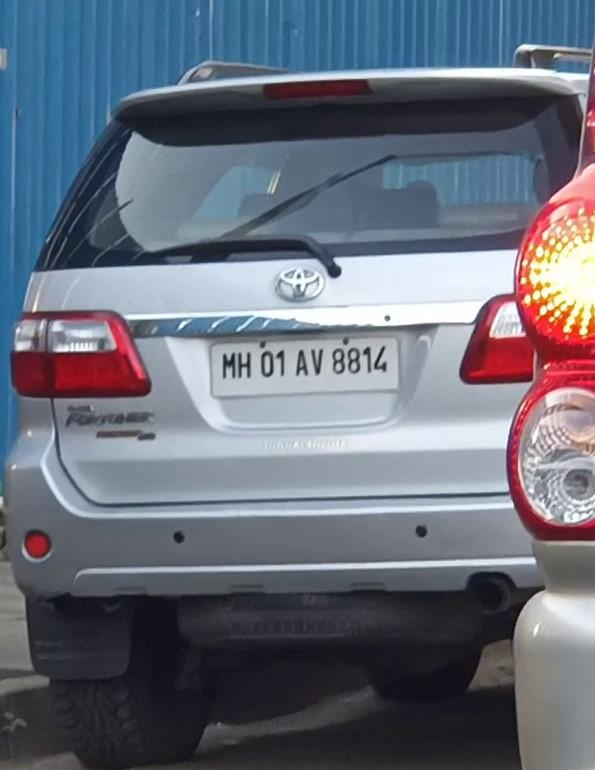MH01AV8814: (210, 337, 400, 390)
